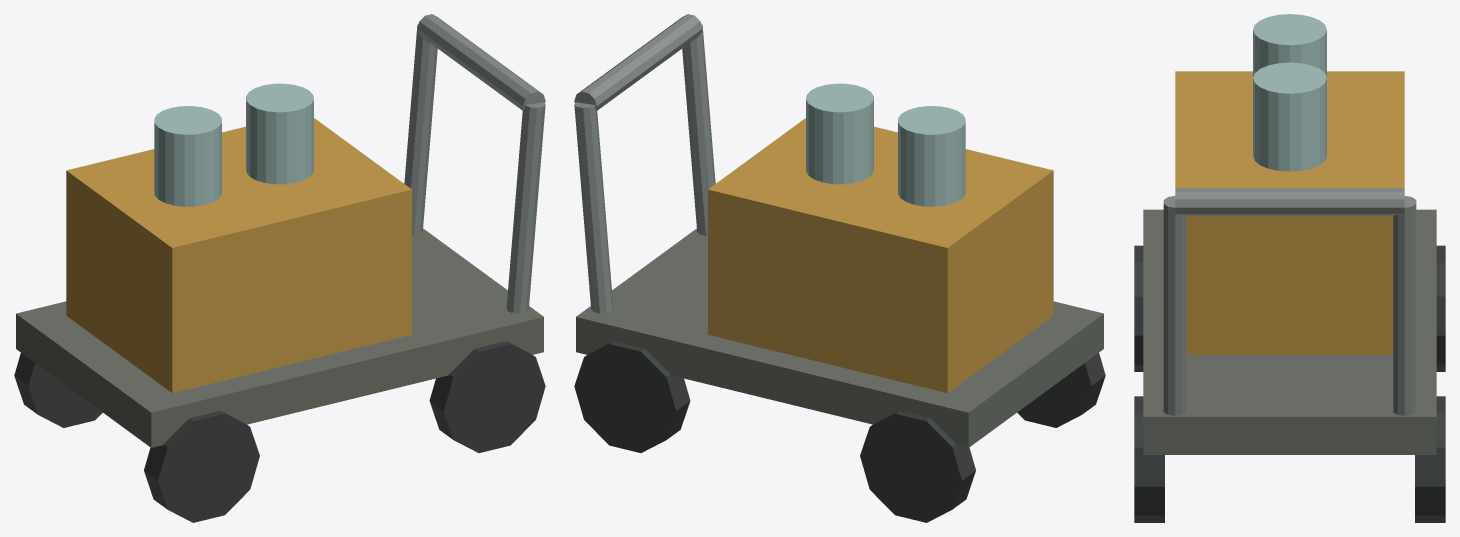
The model's file is TC_CleanerCart.glb.
3 views of the same model, side by side, from view 1: azimuth 30°, elevation 25°; view 2: azimuth 150°, elevation 25°; view 3: azimuth 270°, elevation 25° (orthographic). The views are drawn at different scales.
Visible parts, largest first — view 1: TC_CleanerCart; view 2: TC_CleanerCart; view 3: TC_CleanerCart.
Part boxes in pixels (x1,y1,x2,y2): TC_CleanerCart: (14,14,545,522); TC_CleanerCart: (574,14,1105,522); TC_CleanerCart: (1134,14,1445,522).
Size of the model in its own units: 8.02 by 6.25 by 4.88.
Materials: 1 (1 with a texture image).
